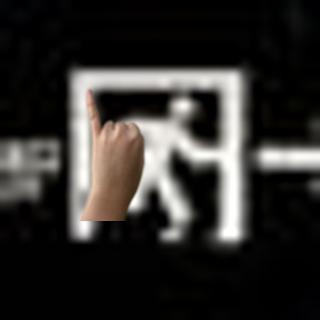Fine: (84, 88, 146, 213)
